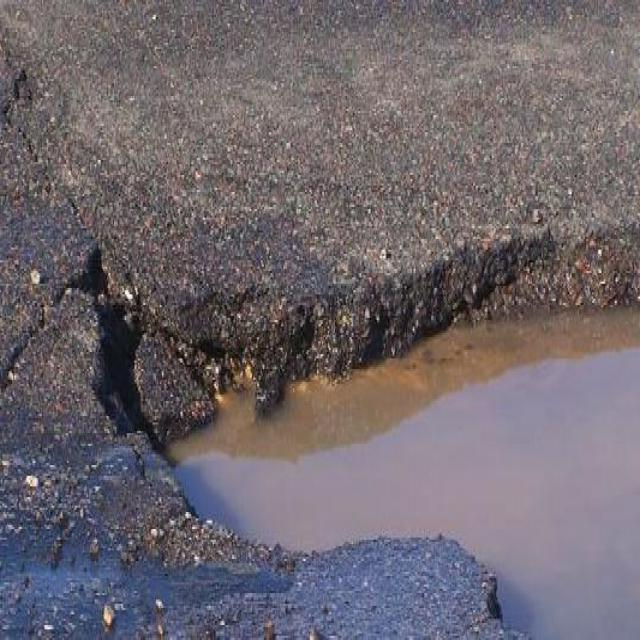Pothole: (79, 213, 640, 638)
